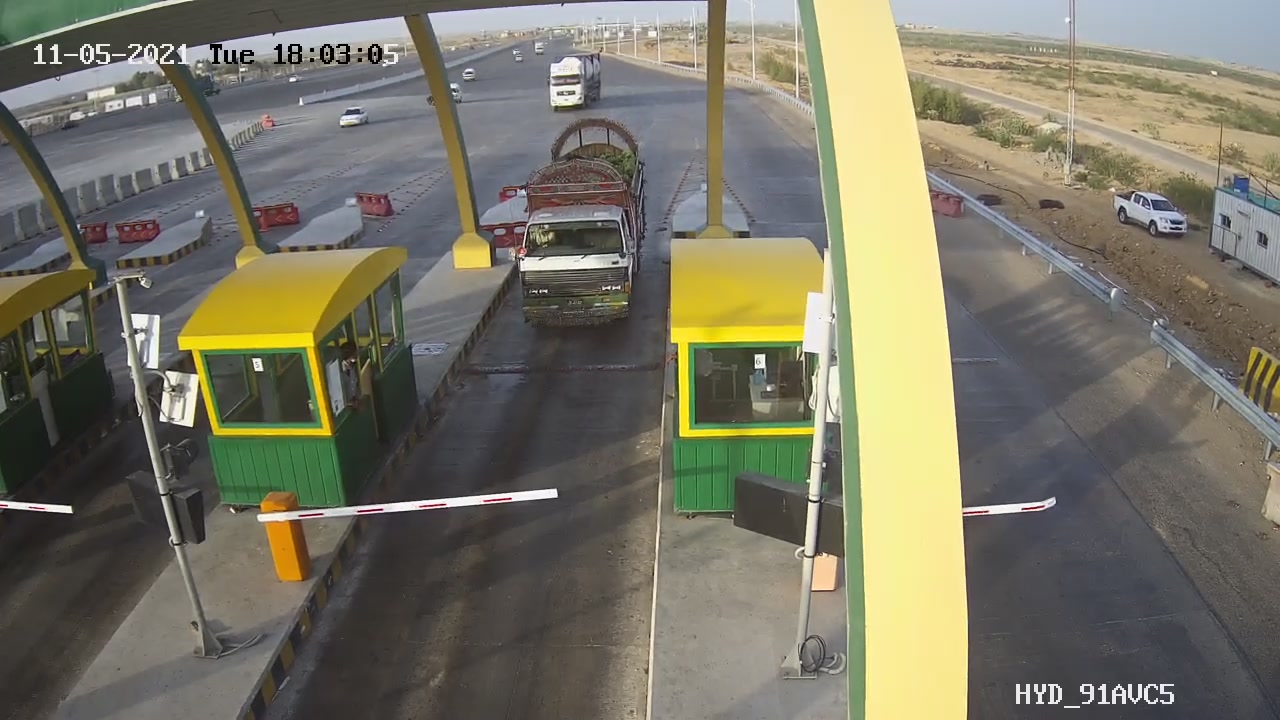F5: (489, 104, 661, 360)
